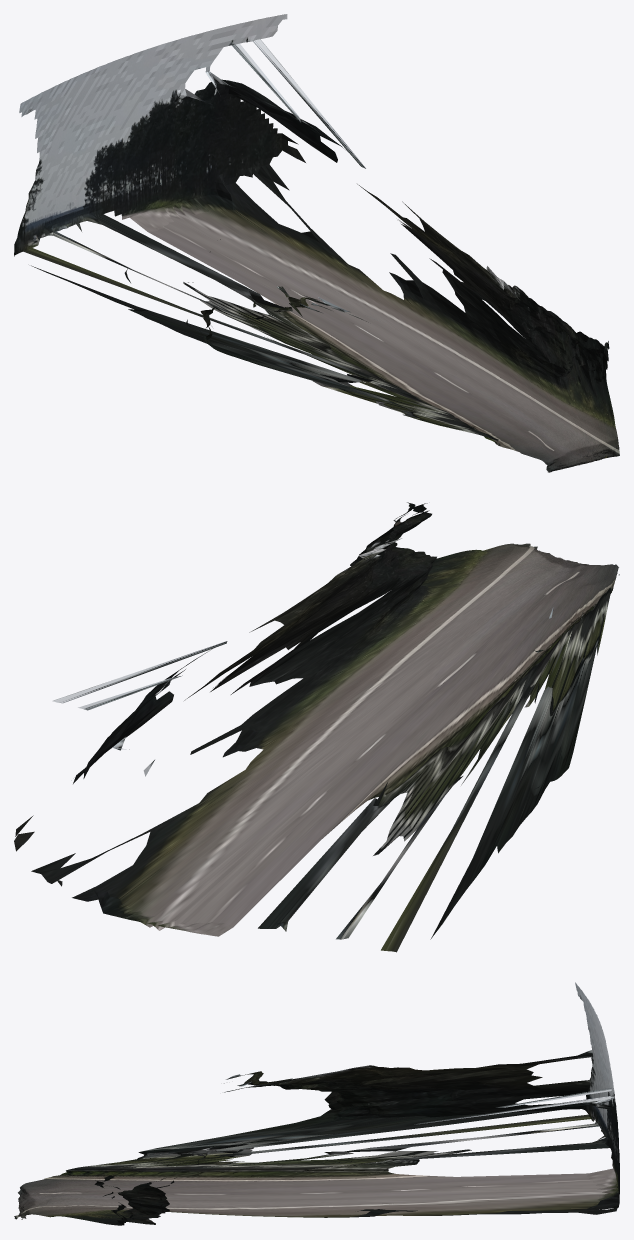
3 renders of one model, top to bottom at view 1: azimuth 30°, elevation 25°; view 2: azimuth 150°, elevation 25°; view 3: azimuth 270°, elevation 25°, orthographic. The views are drawn at different scales.
Visible parts, largest first — view 1: defaultobject; view 2: defaultobject; view 3: defaultobject.
Part boxes in pixels (x1,y1,x2,y2): defaultobject: [14, 14, 619, 472]; defaultobject: [14, 502, 619, 952]; defaultobject: [14, 982, 619, 1225].
Bounding box in the file's own units: 21.64 × 11.7 × 44.62.
1 material, 1 textured.
